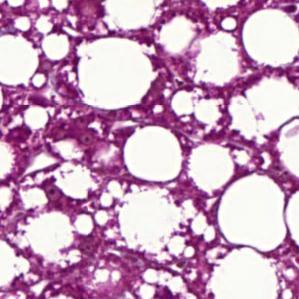steatosis: (73, 39, 157, 111), (122, 125, 182, 182), (243, 8, 299, 66)
